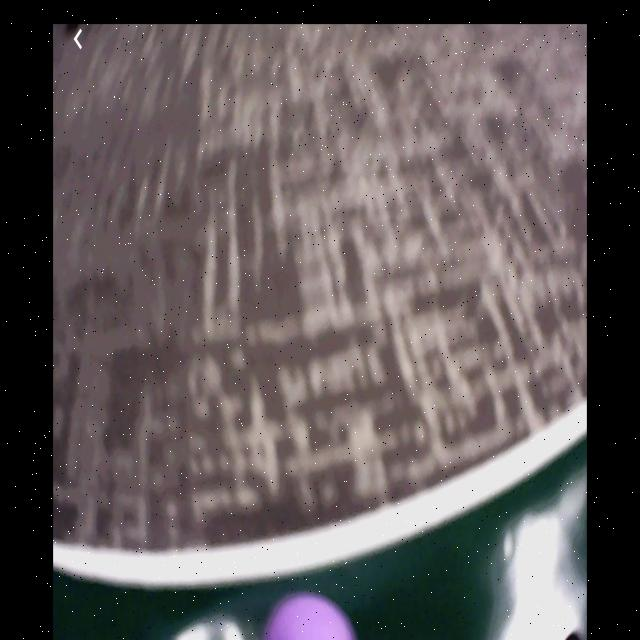ball: (266, 593, 356, 640)
